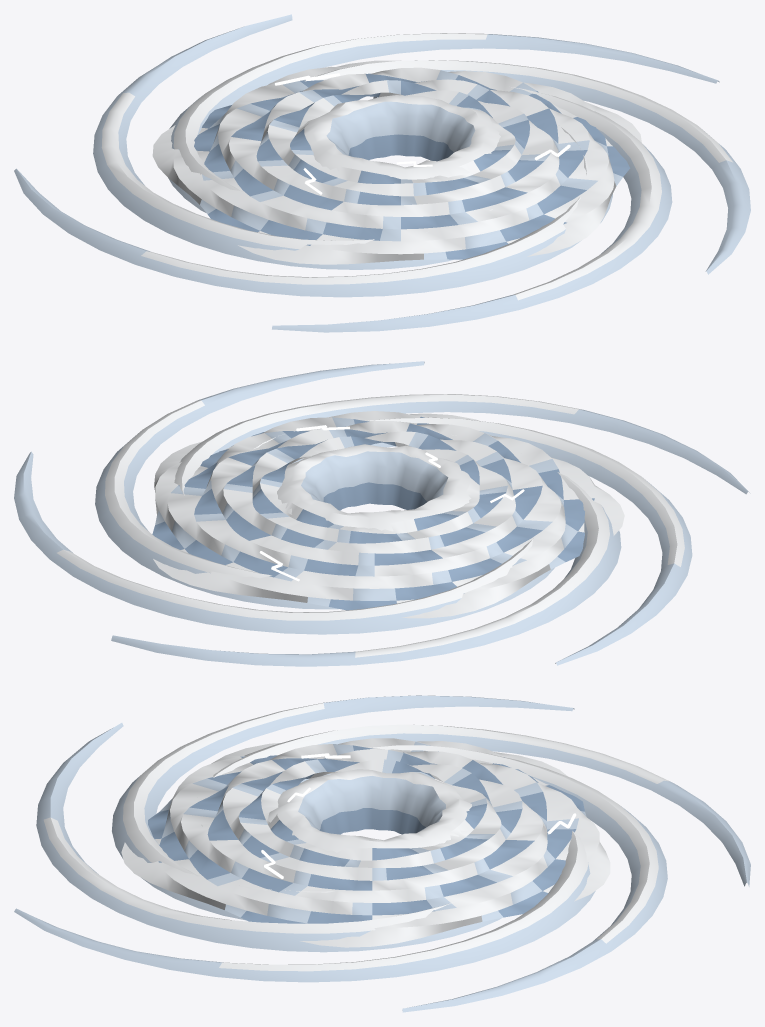
Rendered from globe_hurricane.glb.
The picture shows the model from 3 angles, top to bottom: view 1: azimuth 30°, elevation 25°; view 2: azimuth 150°, elevation 25°; view 3: azimuth 270°, elevation 25°; orthographic projection.
Parts seen in each view (by area): view 1: spiral, body; view 2: spiral, body; view 3: spiral, body.
Boxes of the visible parts, x1,y1,x2,y2 form: spiral: (14,14,750,332); body: (304,95,500,179); spiral: (14,361,750,666); body: (277,444,471,531); spiral: (14,695,750,1012); body: (268,769,471,852).
Size of the model in its own units: 622 by 42.05 by 616.
